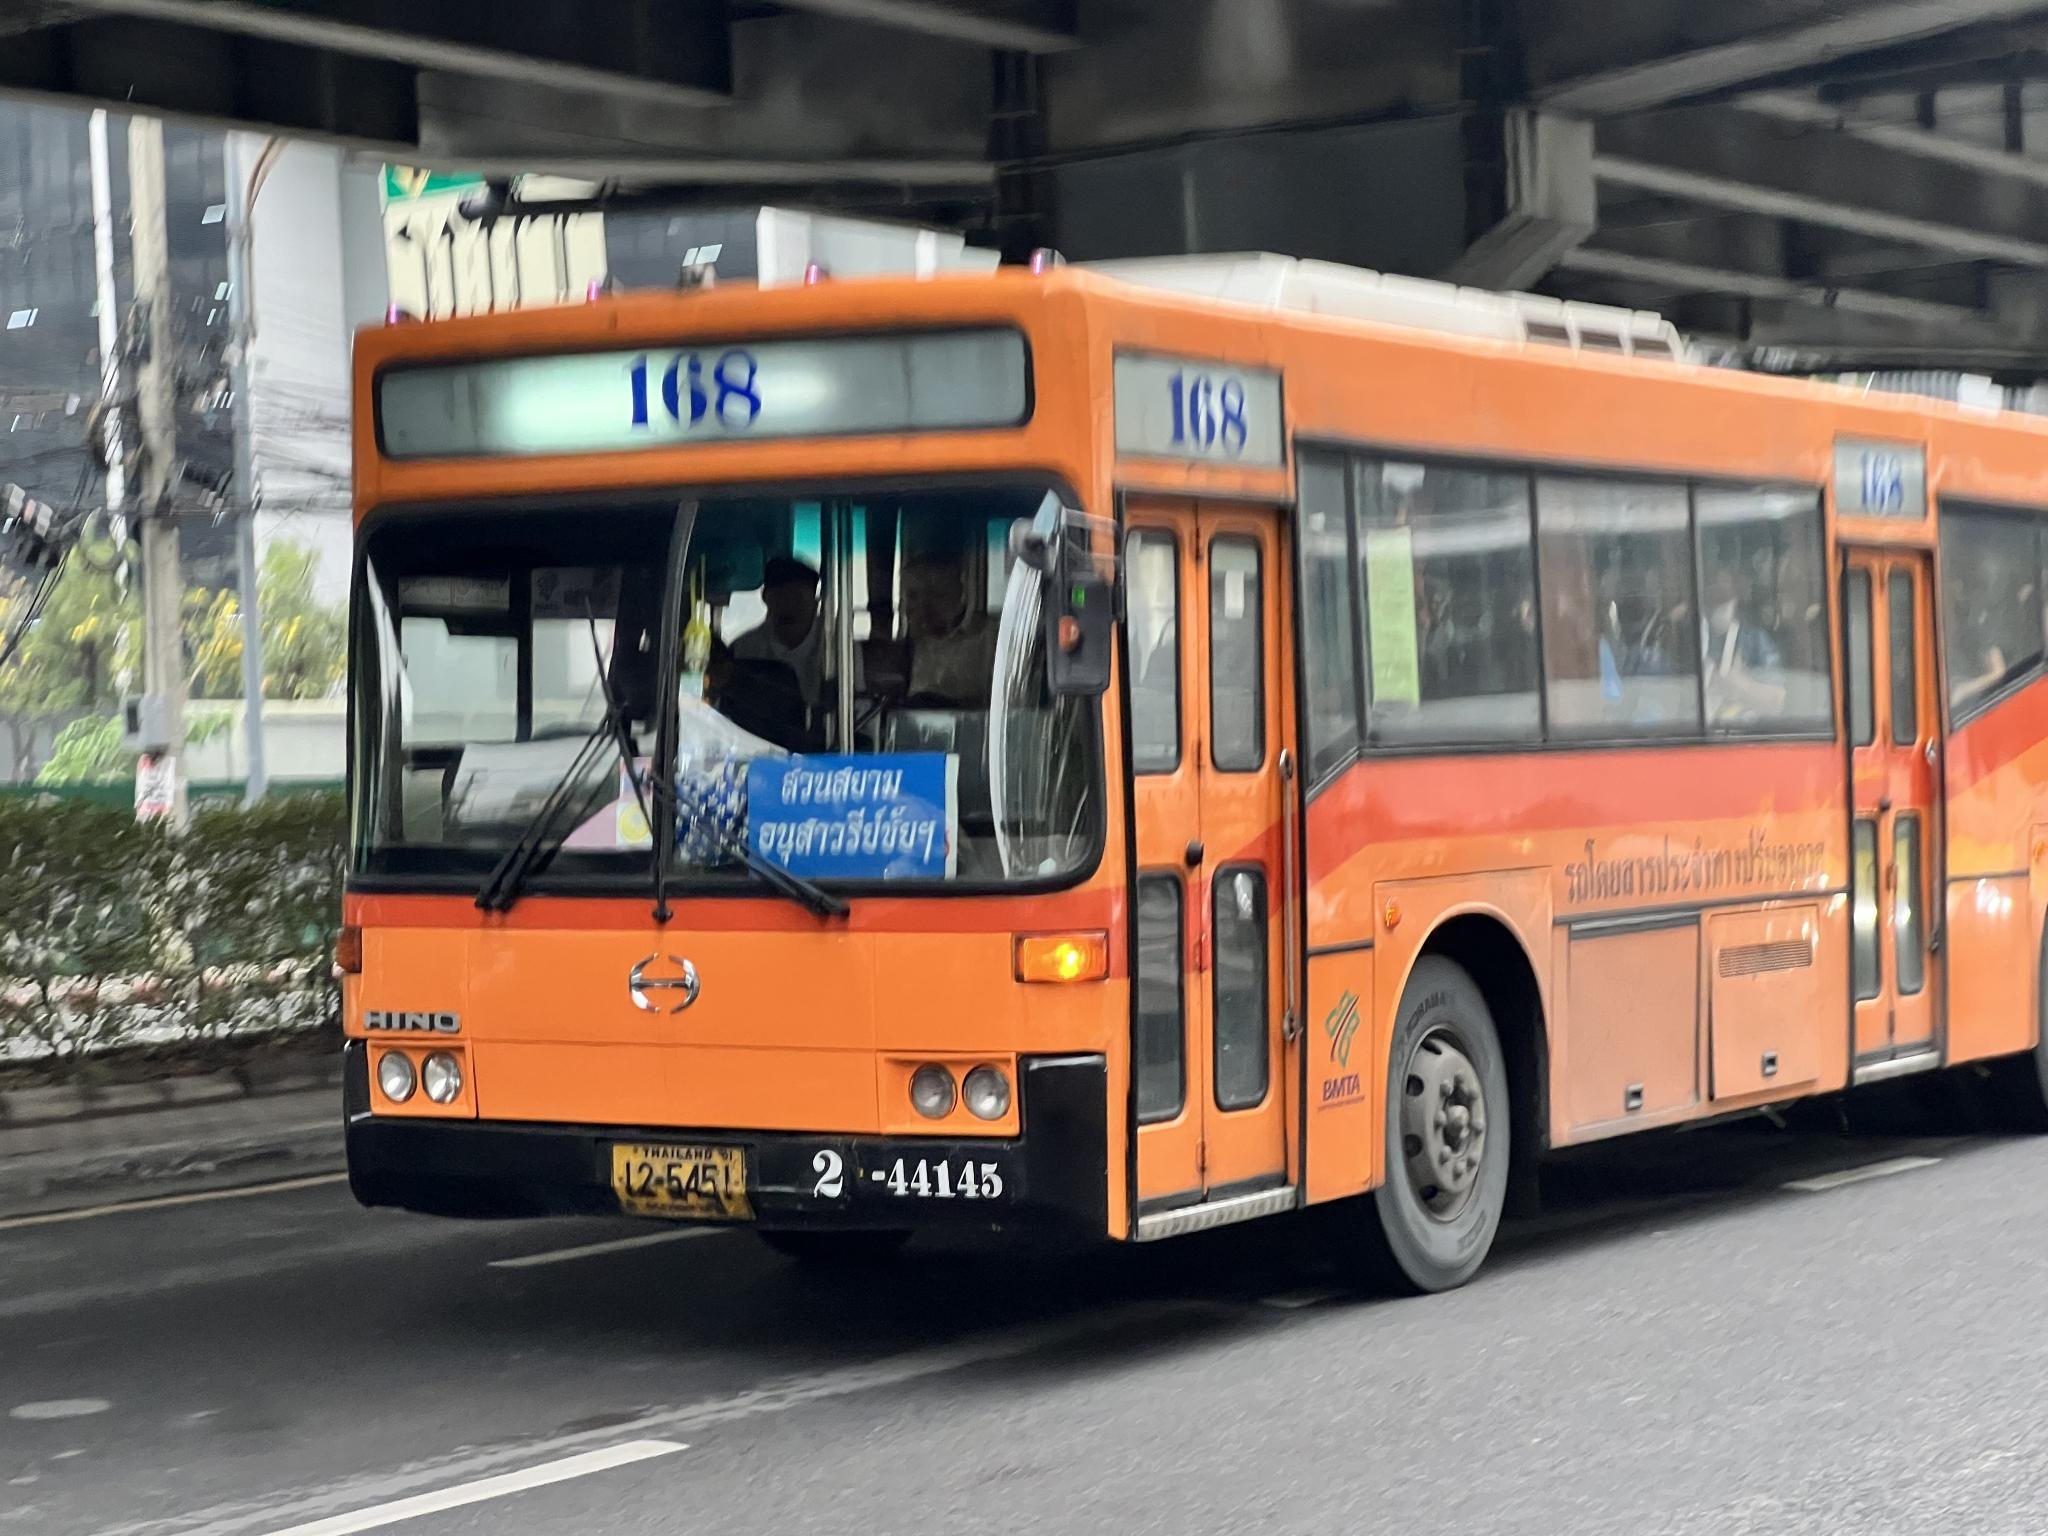BMTA-bus: (331, 261, 2048, 1297)
Bus Line Number: (613, 321, 766, 447), (1156, 363, 1256, 458)
Bus Side Number: (792, 1144, 1016, 1215)
Destination Sign: (743, 750, 958, 879)
